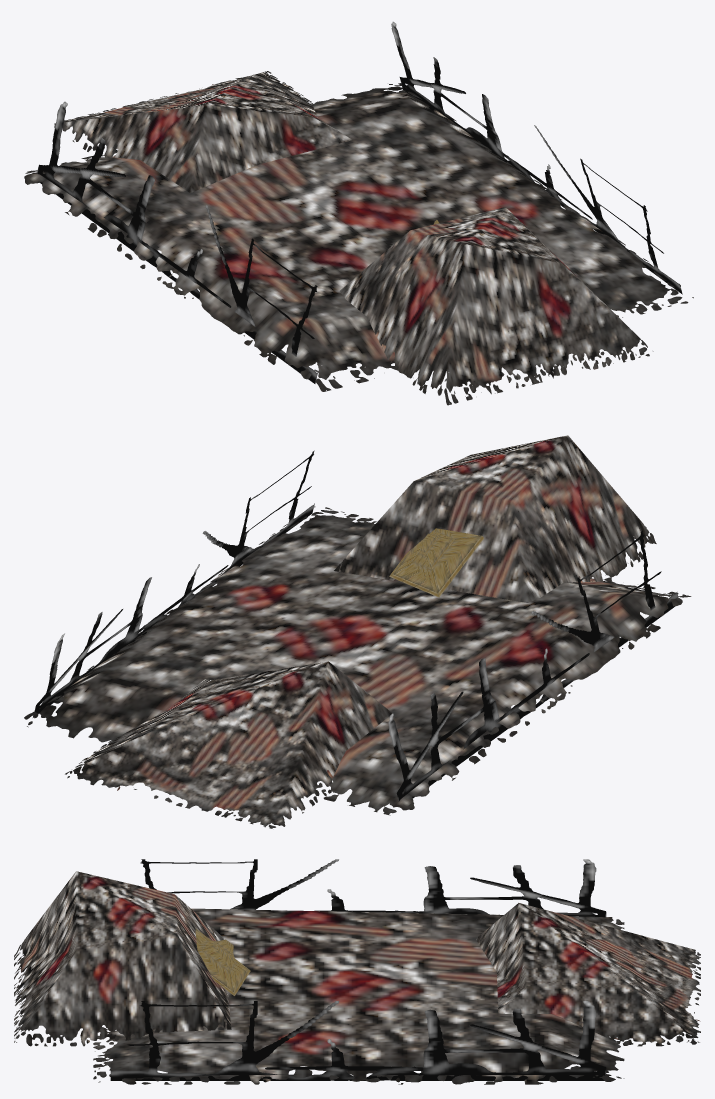
Rendered from l_guardhouse_dam.glb.
3 views of the same model, one above another, from view 1: azimuth 30°, elevation 25°; view 2: azimuth 150°, elevation 25°; view 3: azimuth 270°, elevation 25° (orthographic). The views are drawn at different scales.
Parts seen in each view (by area): view 1: gaurdhouseDAM; view 2: gaurdhouseDAM; view 3: gaurdhouseDAM.
Boxes of the visible parts, <box> form: gaurdhouseDAM: <box>24,21,693,405</box>; gaurdhouseDAM: <box>24,435,691,828</box>; gaurdhouseDAM: <box>14,859,700,1084</box>.
Bounding box in the file's own units: 19.64 × 5.9 × 34.07.
Materials: 3 (3 with a texture image).
